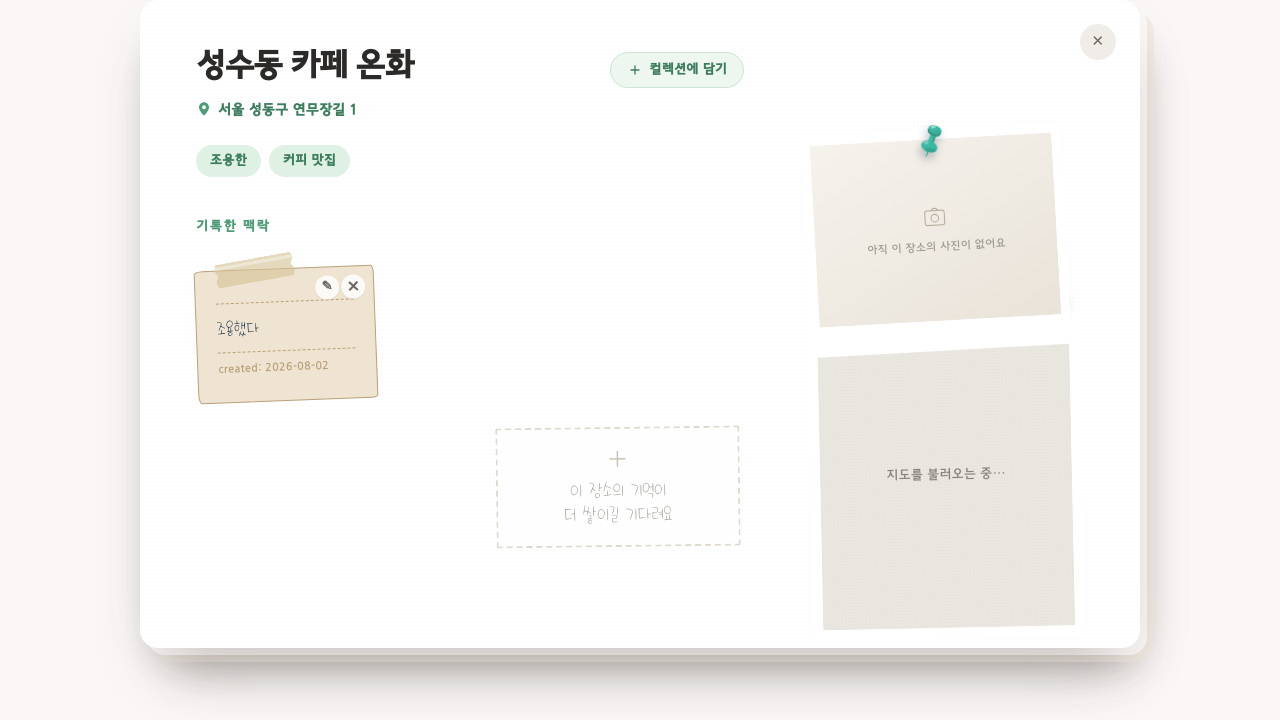
Test case: RecordDetailView — 다이어리 콜라주(415) › 수정 버튼을 누르면 그 자리가 손글씨 입력으로 바뀐다
Step 1. Click the button named "맥락 수정" → (327, 287), box 315,275 -> 340,300
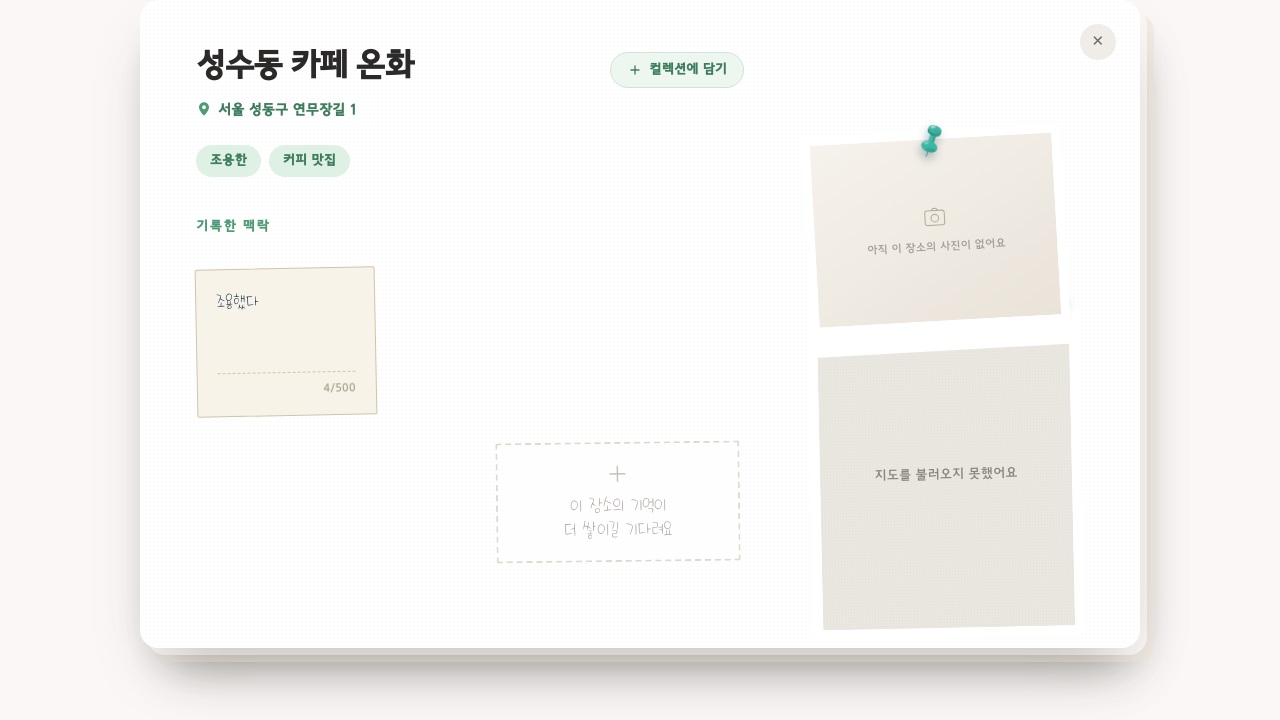
Expected: the text box named "맥락 본문 수정" holds "조용했다", 216,287 -> 355,365
